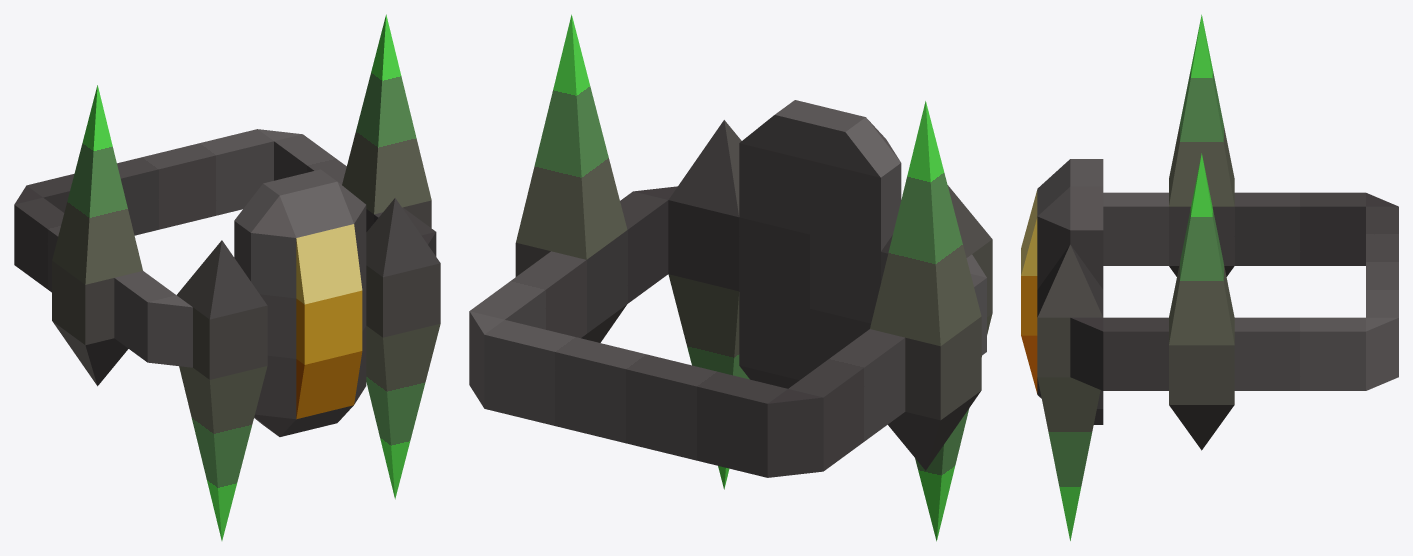
The model's file is bracelet_emberglow.obj.
3 renders of one model, left to right at view 1: azimuth 30°, elevation 25°; view 2: azimuth 150°, elevation 25°; view 3: azimuth 270°, elevation 25°, orthographic. The views are drawn at different scales.
Visible parts, largest first — view 1: BRACELET_DECO_EMBERGLOW_Cube.026, BRACELET_BASE_INFERNALIRON_Cube.025; view 2: BRACELET_DECO_EMBERGLOW_Cube.026, BRACELET_BASE_INFERNALIRON_Cube.025; view 3: BRACELET_DECO_EMBERGLOW_Cube.026, BRACELET_BASE_INFERNALIRON_Cube.025.
Boxes of the visible parts, box(x1,y1,x2,y2) form: BRACELET_DECO_EMBERGLOW_Cube.026: box(52, 14, 440, 540); BRACELET_BASE_INFERNALIRON_Cube.025: box(14, 129, 436, 367); BRACELET_DECO_EMBERGLOW_Cube.026: box(515, 14, 992, 541); BRACELET_BASE_INFERNALIRON_Cube.025: box(469, 186, 986, 477); BRACELET_DECO_EMBERGLOW_Cube.026: box(1021, 14, 1234, 540); BRACELET_BASE_INFERNALIRON_Cube.025: box(1070, 192, 1398, 390).
Size of the model in its own units: 0.375 by 0.4375 by 0.3594.
